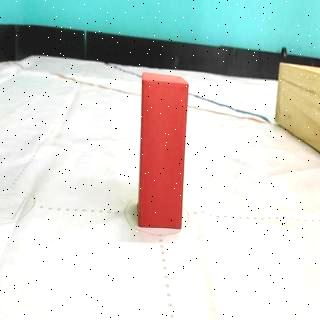redbox: (140, 72, 190, 230)
